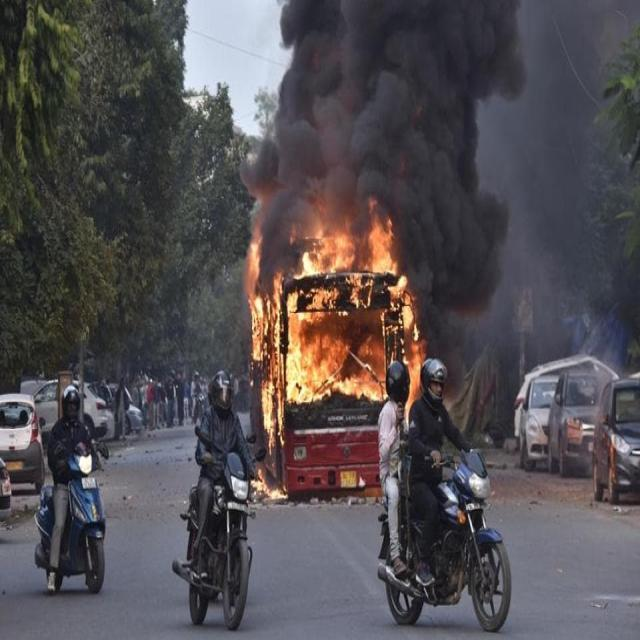Fire: (250, 204, 424, 446), (250, 468, 290, 503)
Smoke: (243, 0, 620, 389)
